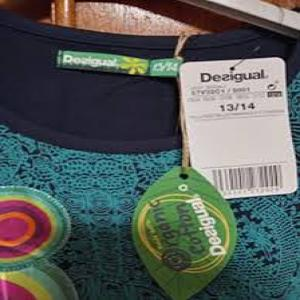desigual: (179, 186, 235, 266), (195, 65, 270, 85), (59, 54, 125, 74)
